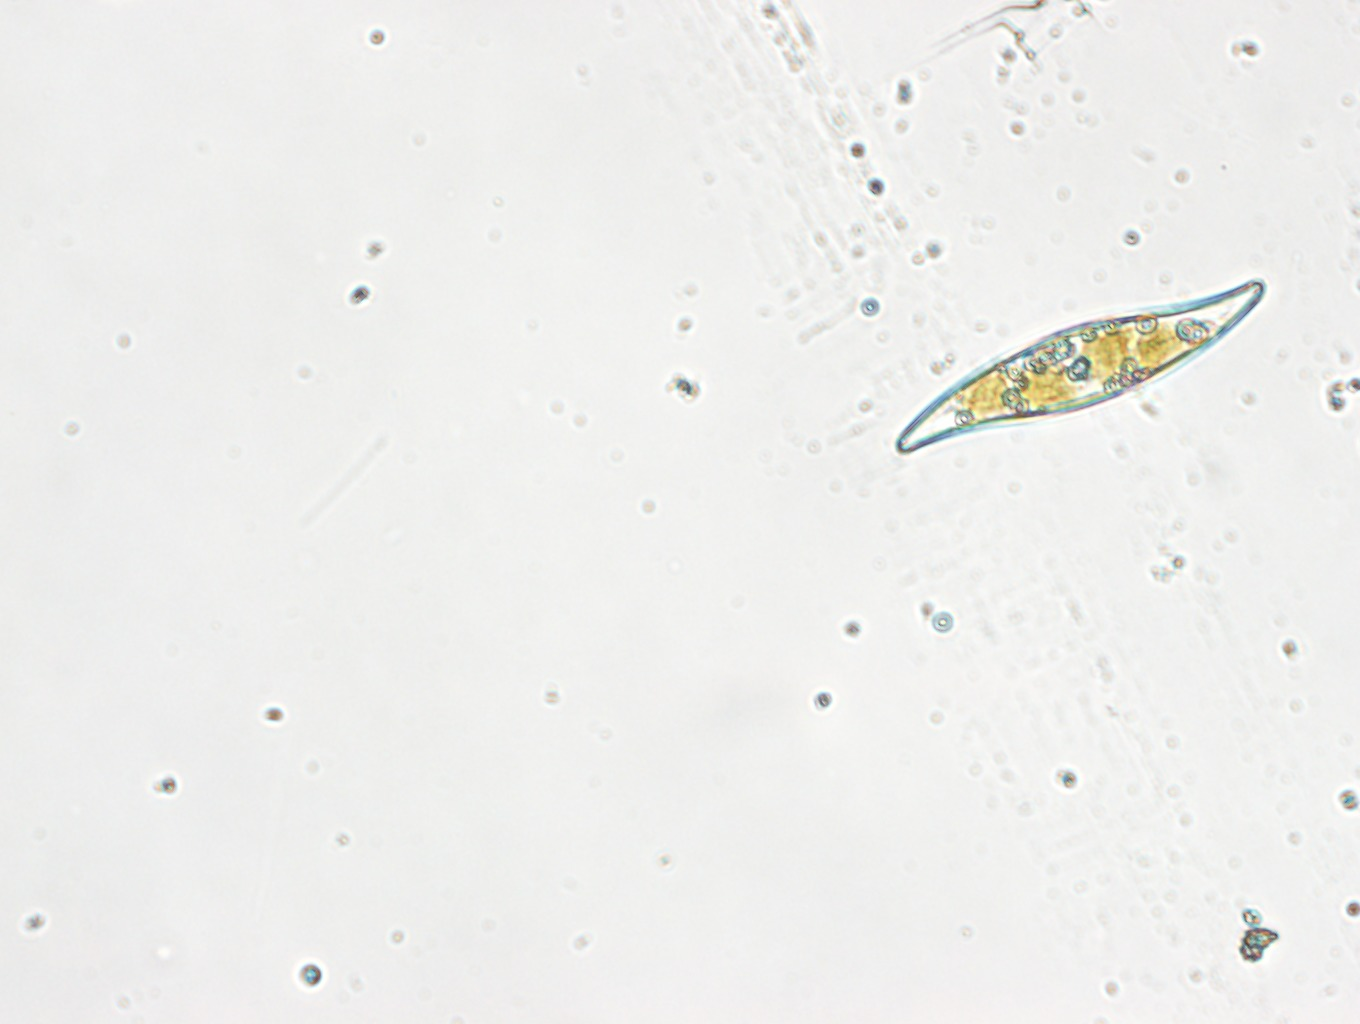pleurosigma pelagicum: (889, 274, 1266, 458)
